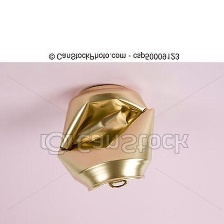can: (52, 75, 163, 196)
